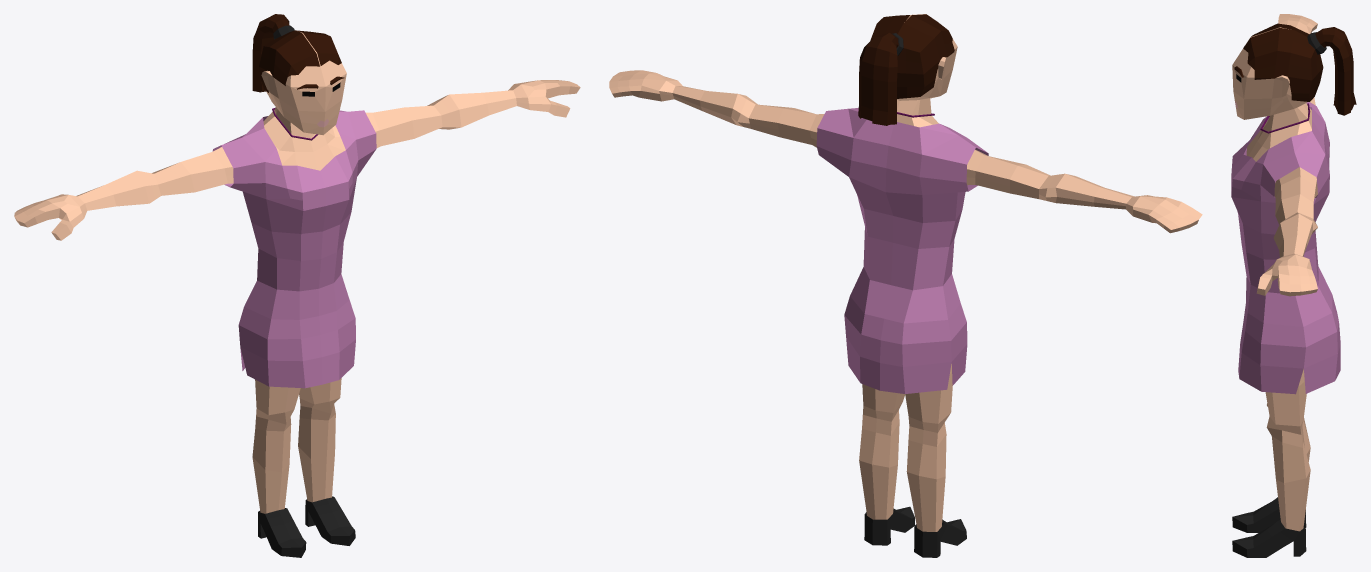
Rendered from NPC_W_TrajeMorado_Escenario2.fbx.
The picture shows the model from 3 angles, left to right: view 1: azimuth 30°, elevation 25°; view 2: azimuth 150°, elevation 25°; view 3: azimuth 270°, elevation 25°; orthographic projection. The views are drawn at different scales.
Parts seen in each view (by area): view 1: Vestido; view 2: Vestido; view 3: Vestido.
Part boxes in pixels (x1=…): Vestido: x1=14, y1=14, x2=580, y2=557; Vestido: x1=609, y1=14, x2=1202, y2=557; Vestido: x1=1231, y1=14, x2=1356, y2=557.
Bounding box in the file's own units: 215 × 185 × 40.91.
